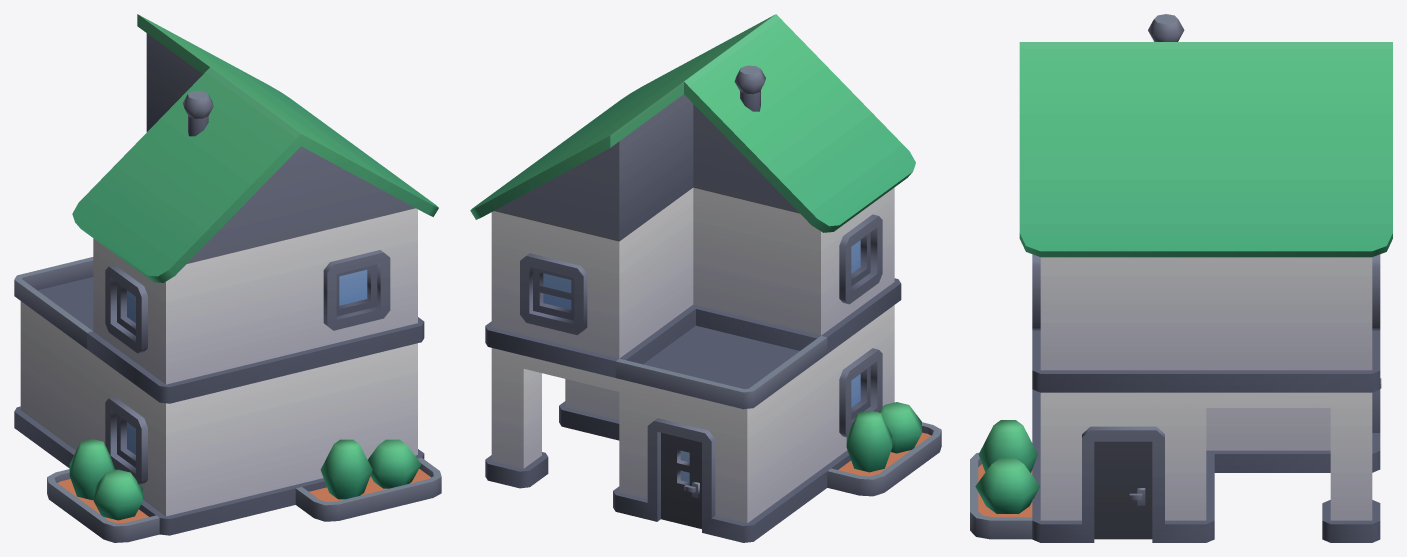
Rendered from k-city-kit-suburban-building-type-r.glb.
3 views of the same model, side by side, from view 1: azimuth 30°, elevation 25°; view 2: azimuth 150°, elevation 25°; view 3: azimuth 270°, elevation 25° (orthographic). The views are drawn at different scales.
Parts seen in each view (by area): view 1: building-type-r; view 2: building-type-r; view 3: building-type-r.
Boxes of the visible parts, x1=… form: building-type-r: x1=14, y1=14, x2=441, y2=542; building-type-r: x1=470, y1=14, x2=941, y2=542; building-type-r: x1=970, y1=14, x2=1392, y2=542.
Bounding box in the file's own units: 1.03 × 1.14 × 1.02.
1 material, 1 textured.
